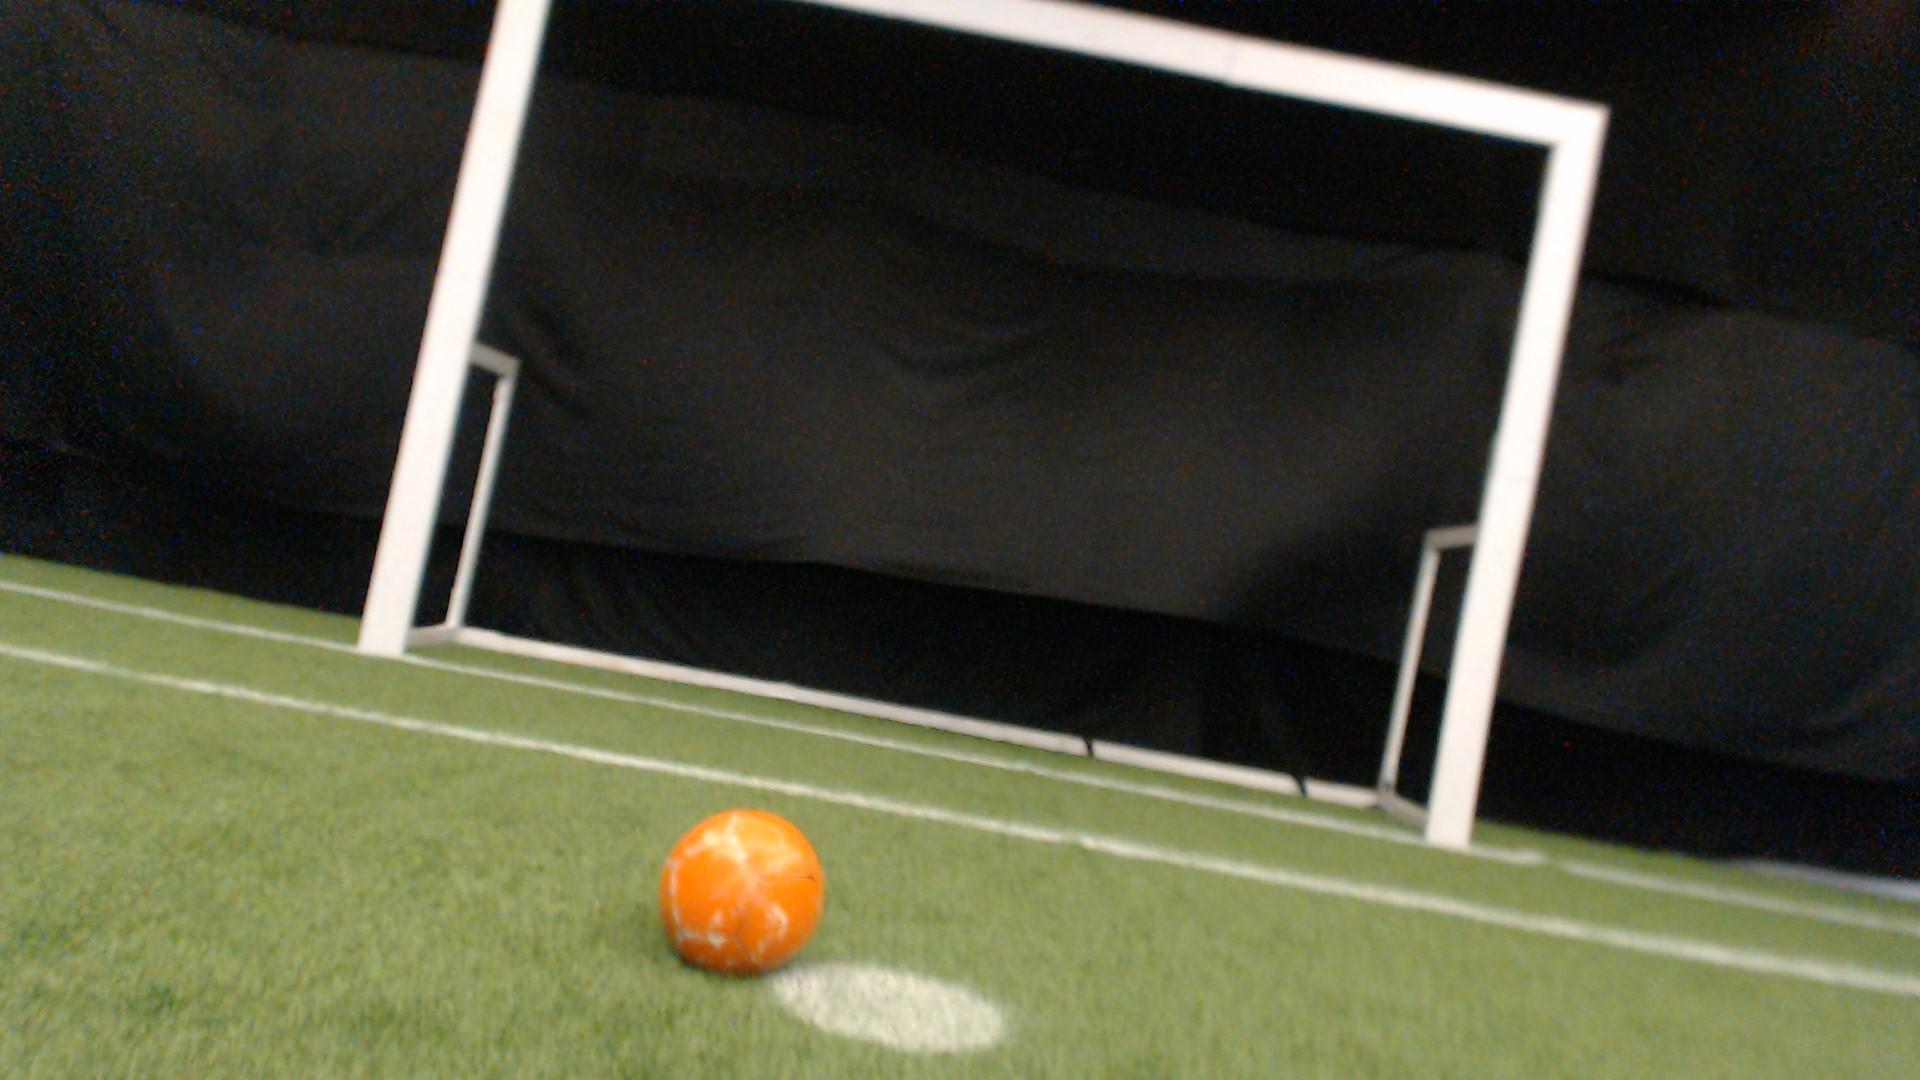bola: (638, 795, 845, 994)
